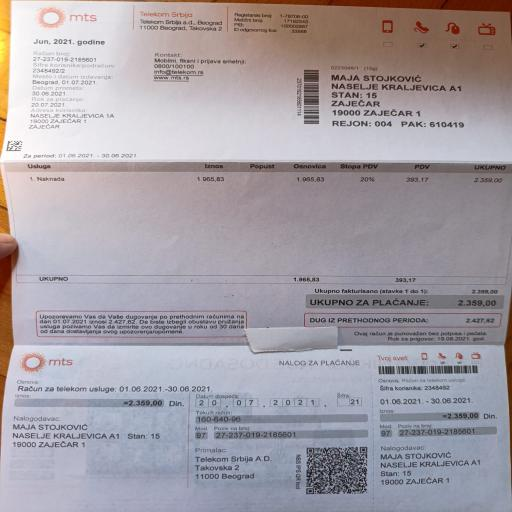mts: (21, 161, 512, 191)
mts_iznos: (308, 294, 506, 311)
mts_uplatnica: (375, 394, 505, 442)
